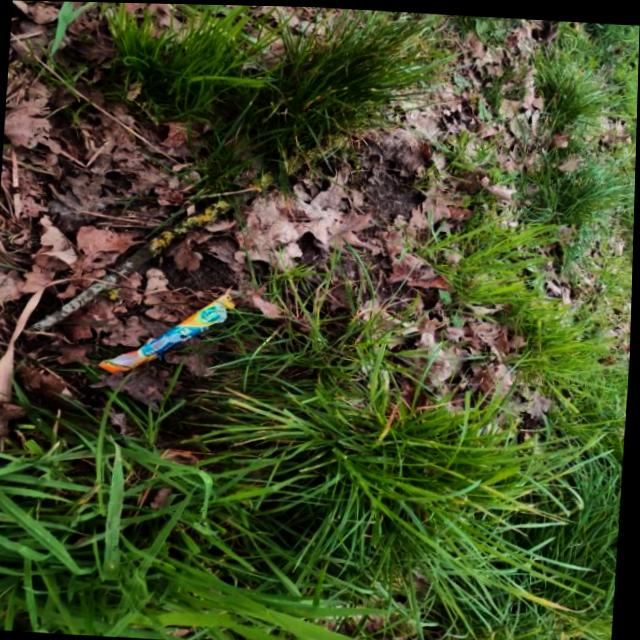Plastic: (97, 276, 239, 379)
